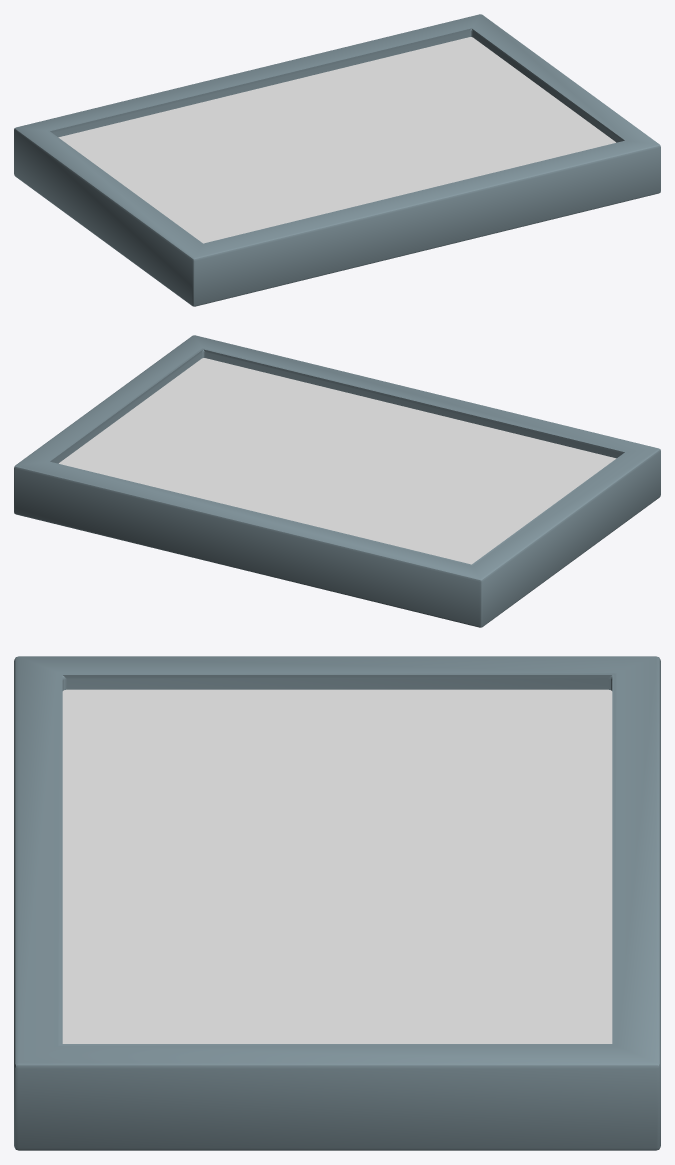
The model's file is medence.fbx.
3 renders of one model, top to bottom at view 1: azimuth 30°, elevation 25°; view 2: azimuth 150°, elevation 25°; view 3: azimuth 270°, elevation 25°, orthographic. The views are drawn at different scales.
Parts seen in each view (by area): view 1: viz, medence; view 2: viz, medence; view 3: viz, medence.
Boxes of the visible parts, <box> form: viz: <box>58,37,615,243</box>; medence: <box>14,14,660,306</box>; viz: <box>59,358,616,564</box>; medence: <box>14,335,660,627</box>; viz: <box>62,689,612,1043</box>; medence: <box>14,656,660,1150</box>.
Size of the model in its own units: 6 by 0.6 by 4.
2 materials, 1 textured.
